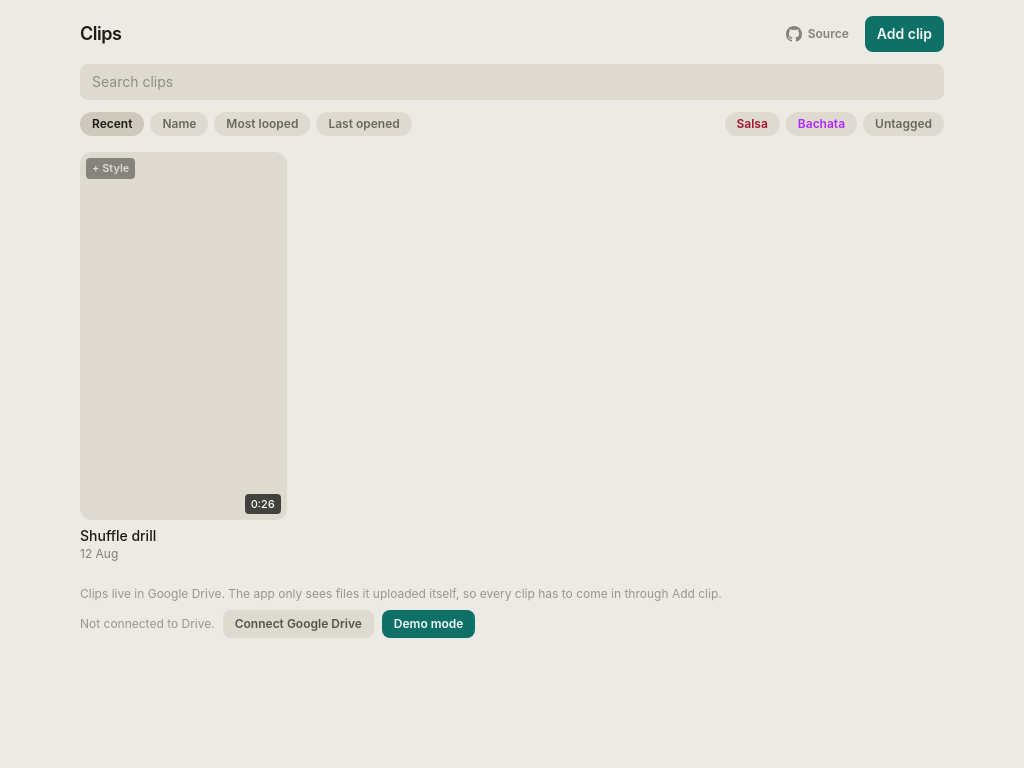
the search box › says nothing matches, rather than showing a bare empty grid
Step 1. Type "salsa" into the search field labelled "Search clips" → (512, 82), box top-left (80, 64), bottom-right (944, 100)
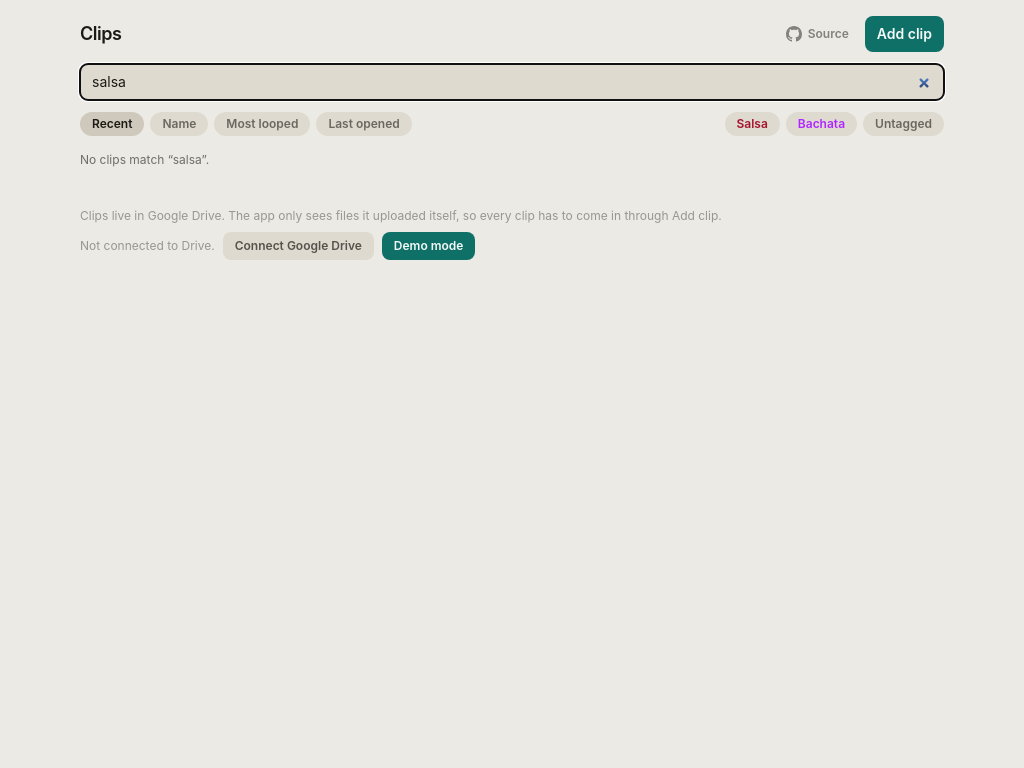
Expected: the message named "Search clips" shows "No clips match", top-left (80, 152), bottom-right (209, 167)
